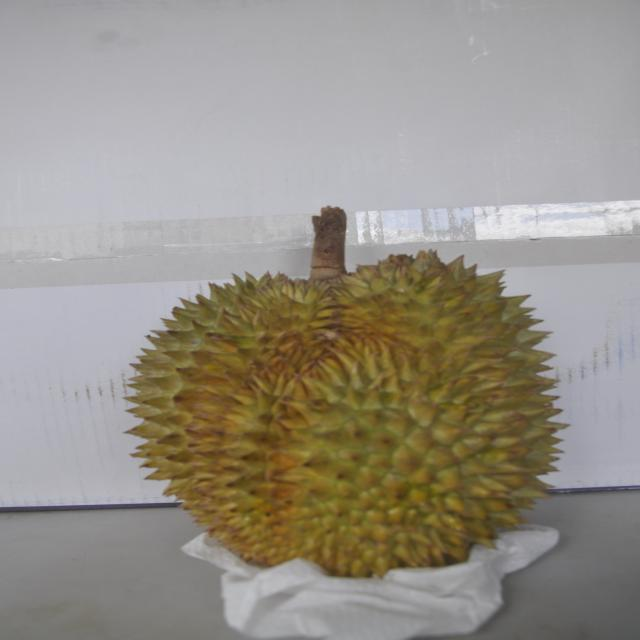mature: (116, 233, 562, 576)
